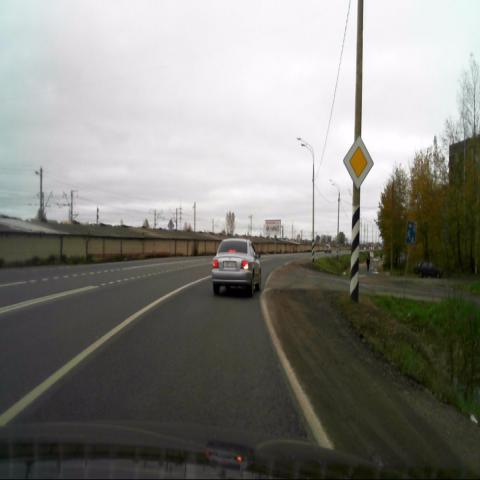5_21: (406, 220, 416, 244)
